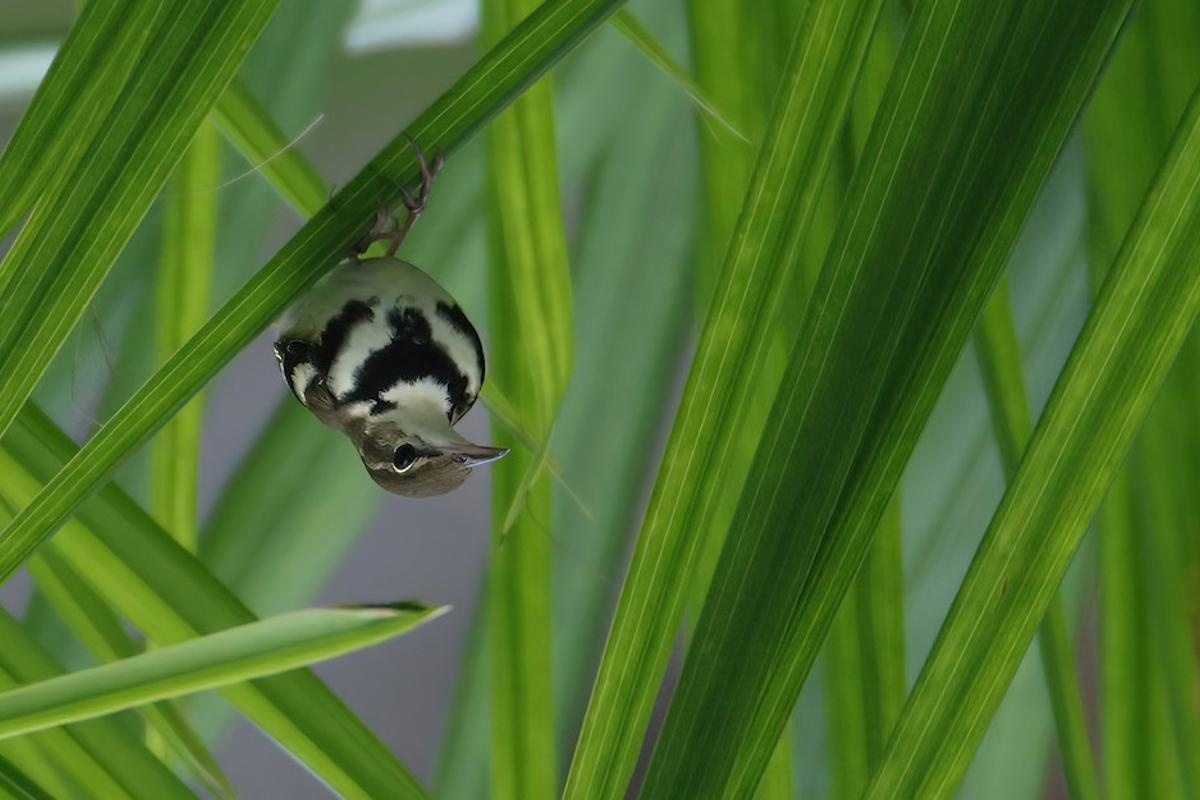wagtail: (225, 230, 550, 523)
